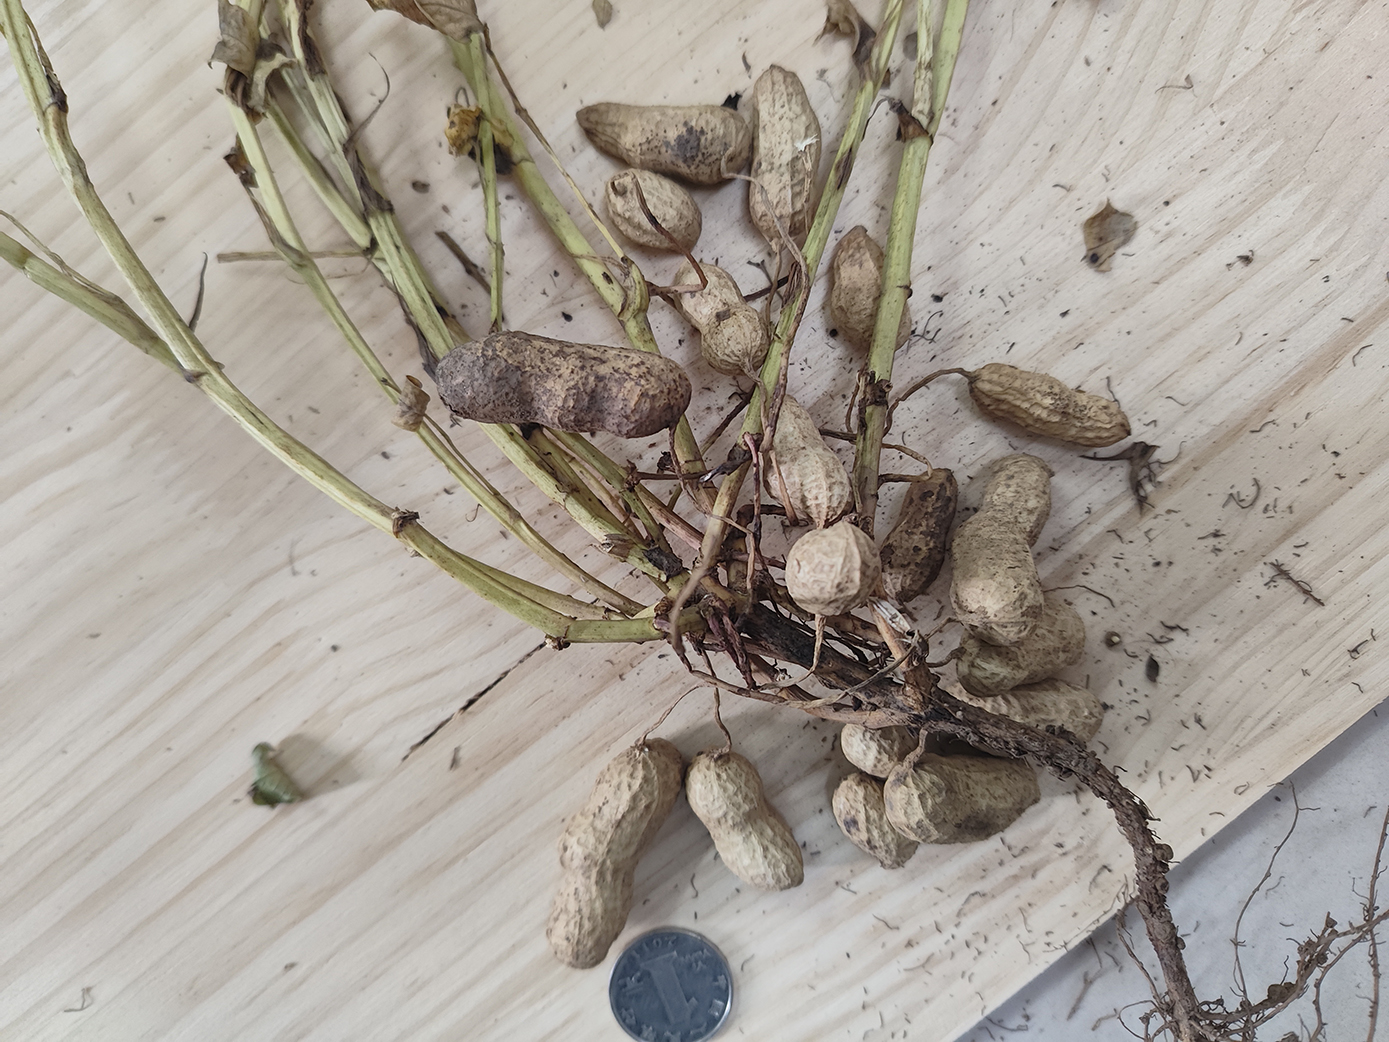h: (546, 738, 680, 969), (952, 453, 1056, 646), (684, 746, 803, 890), (577, 102, 749, 187), (748, 63, 825, 238), (969, 364, 1133, 447), (886, 757, 1039, 843), (759, 391, 850, 522), (949, 680, 1106, 756), (957, 602, 1086, 694), (877, 464, 956, 603), (832, 225, 913, 360), (678, 260, 767, 372), (829, 774, 921, 867), (785, 526, 876, 617), (604, 174, 703, 253), (838, 714, 922, 780)
l: (438, 329, 691, 443)
